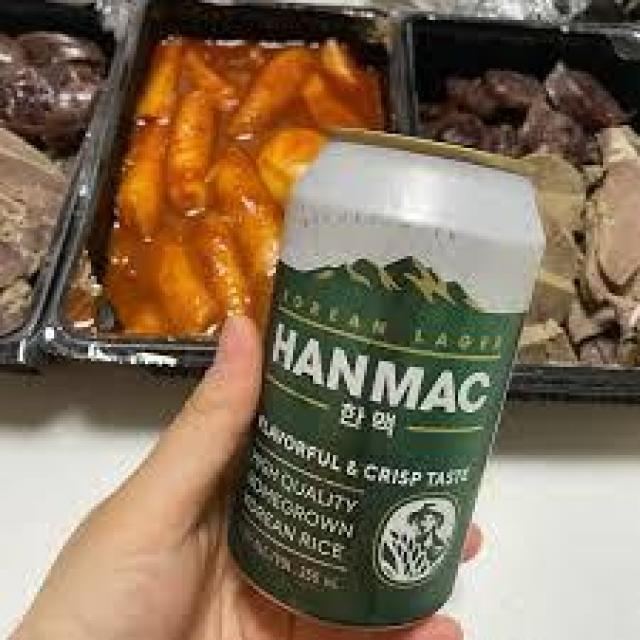beer-can: (219, 134, 546, 626)
